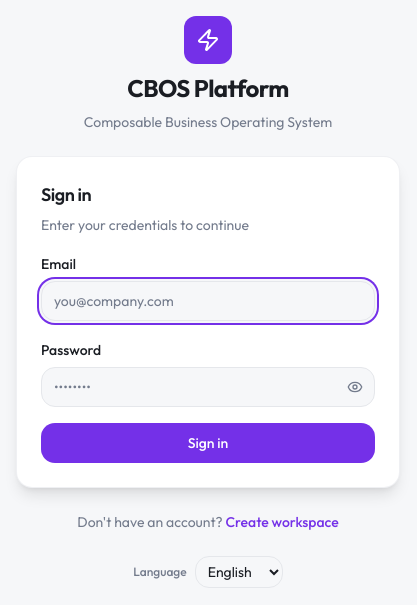
Test: Login in English › toggles the password label in English
Click the button named "Show password" at (355, 387), box [335,367,375,407]
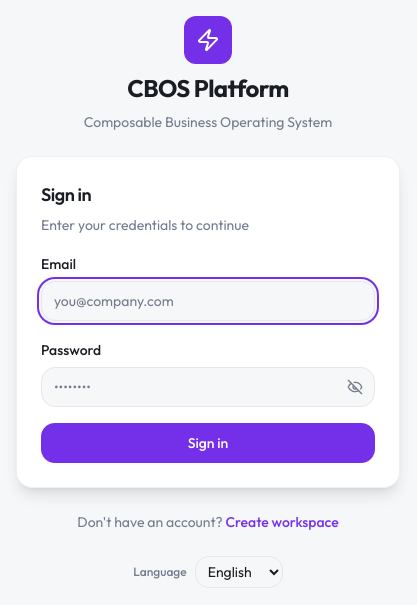
Result: the button named "Hide password" is shown at [335,367,375,407]
